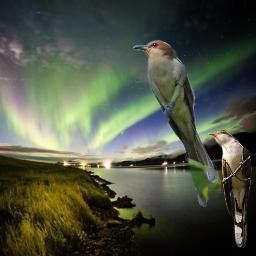Cuckoo: (133, 40, 221, 207), (208, 130, 252, 248)
